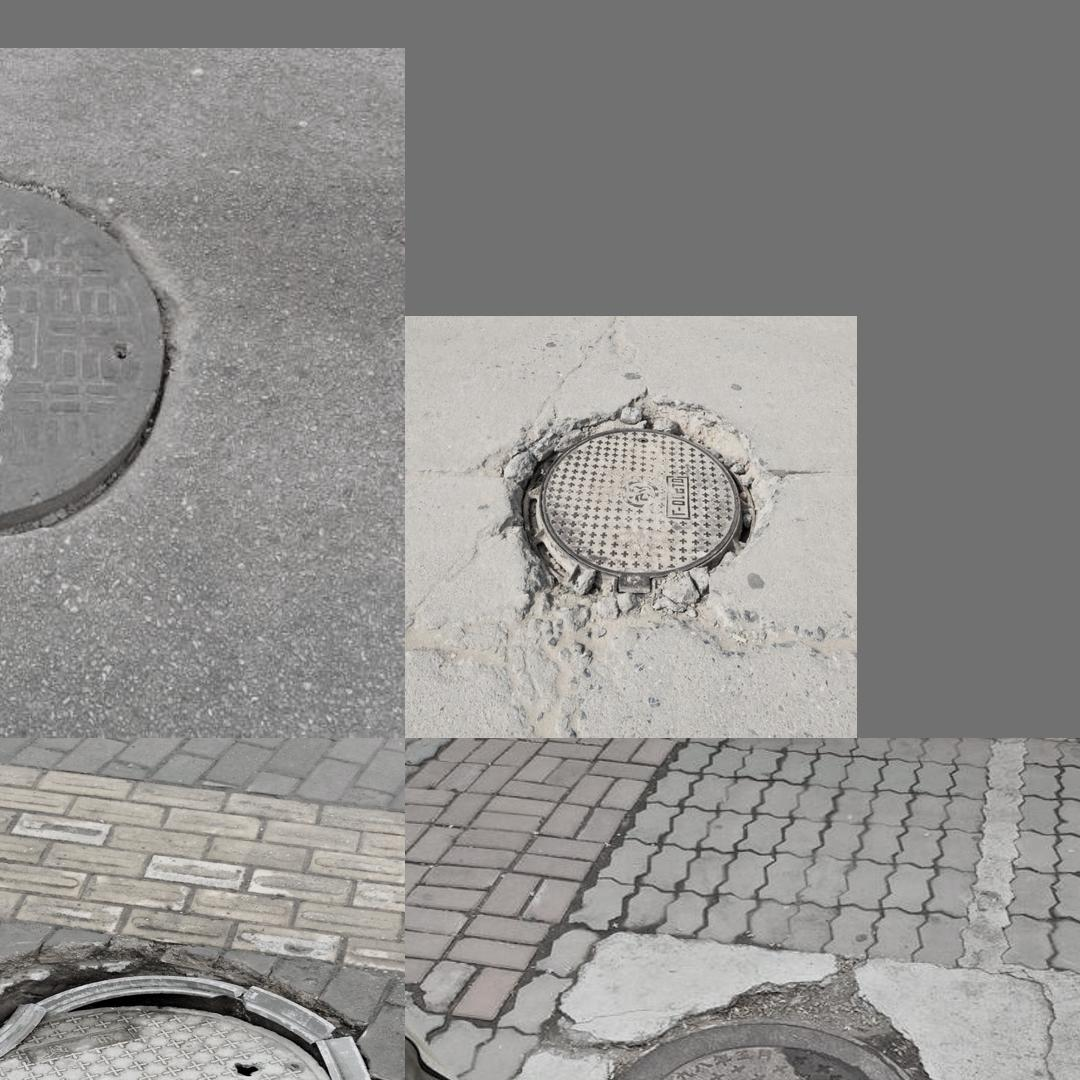circle: (0, 146, 191, 554), (483, 391, 790, 625), (519, 964, 1022, 1080), (0, 942, 396, 1080)
